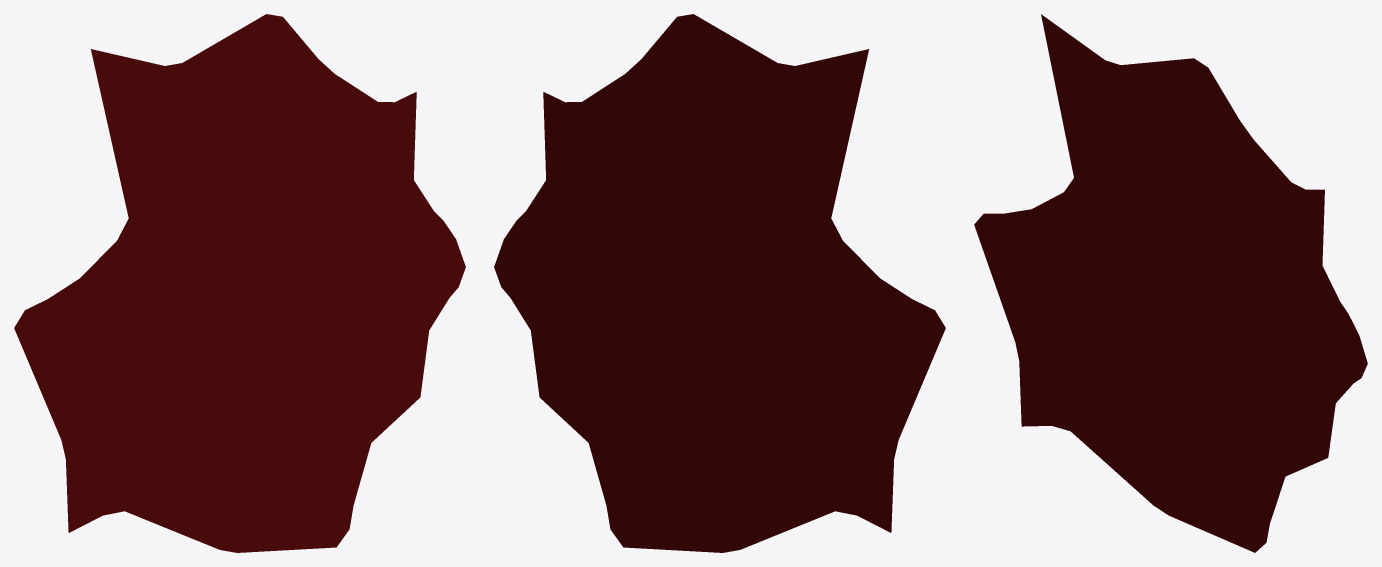
Rendered from BloodPuddle.fbx.
3 views of the same model, side by side, from view 1: azimuth 30°, elevation 25°; view 2: azimuth 150°, elevation 25°; view 3: azimuth 330°, elevation 25° (orthographic). The views are drawn at different scales.
Parts seen in each view (by area): view 1: Plane; view 2: Plane; view 3: Plane.
Part boxes in pixels (x1,y1,x2,y2): Plane: (14,14,465,552); Plane: (494,14,945,552); Plane: (974,14,1367,552).
Bounding box in the file's own units: 274 × 323 × 1.41e-05.
